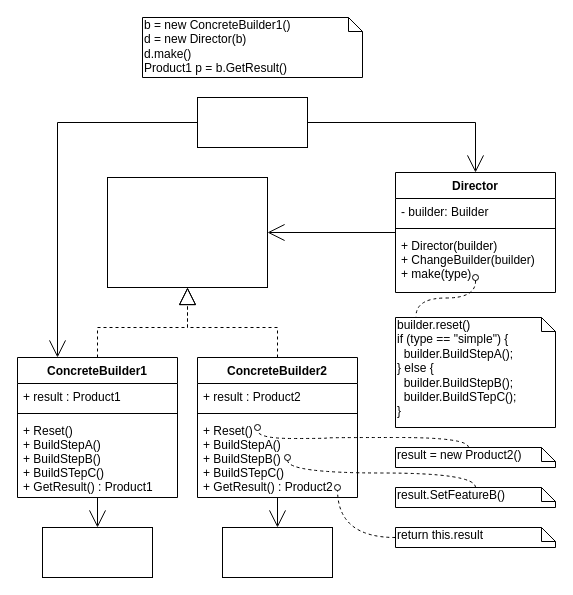
This 573x595 diagram has some shape labels left out. The centre of each missing label's shape, as x and y in pixels:
<<Interface>> Builder + Reset() + BuildStepA() + BuildStepB() + BuildStepC(): point 187,232
Client: point 252,122
Product1: point 97,552
Product2: point 277,552
